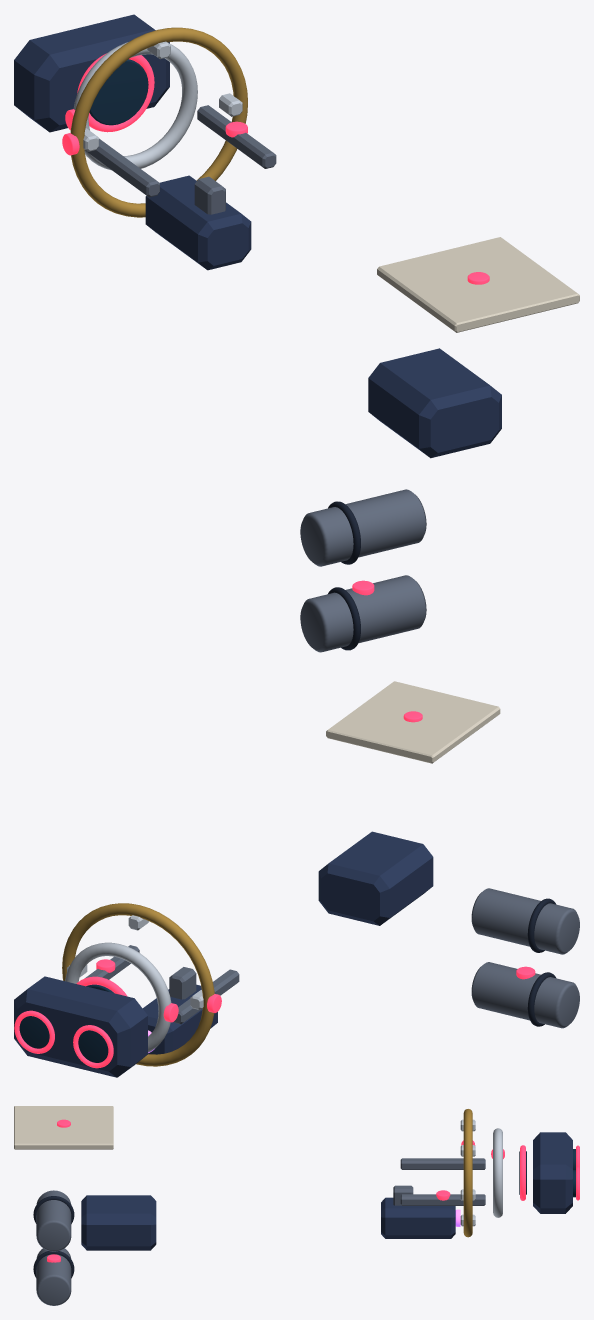
Rendered from tower_filament_peak_s10.glb.
3 renders of one model, top to bottom at view 1: azimuth 30°, elevation 25°; view 2: azimuth 150°, elevation 25°; view 3: azimuth 270°, elevation 25°, orthographic. The views are drawn at different scales.
Visible parts, largest first — view 1: filament_dielectric, filament_coupler, filament_prism, filament_cap0.12, filament_cap-0.12, filament_gimbal_ring, filament_shred_emitter, filament_aperture_ring, filament_lens_b, filament_lens_brace_l, filament_lens_brace_r, filament_lens_b_ring (+1 smaller); view 2: filament_dielectric, filament_coupler, filament_prism, filament_cap0.12, filament_cap-0.12, filament_gimbal_ring, filament_aperture_ring, filament_shred_emitter, filament_lens_brace_r, filament_prism_lens_r, filament_prism_lens_l, filament_shred_mount (+2 smaller); view 3: filament_dielectric, filament_coupler, filament_prism, filament_shred_emitter, filament_cap0.12, filament_cap-0.12, filament_gimbal_ring, filament_lens_brace_r, filament_aperture_ring, filament_lens_brace_l, filament_lens_b_ring, filament_shred_mount (+2 smaller).
Boxes of the visible parts, box(x1,y1,x2,y2) form: filament_dielectric: box(377, 237, 579, 332); filament_coupler: box(368, 348, 501, 458); filament_prism: box(14, 14, 169, 132); filament_cap0.12: box(300, 489, 426, 566); filament_cap-0.12: box(300, 575, 426, 652); filament_gimbal_ring: box(70, 27, 247, 217); filament_shred_emitter: box(145, 175, 251, 270); filament_aperture_ring: box(73, 42, 197, 170); filament_lens_b: box(89, 59, 148, 125); filament_lens_brace_l: box(197, 105, 276, 168); filament_lens_brace_r: box(85, 138, 159, 197); filament_lens_b_ring: box(77, 53, 154, 132); filament_dielectric: box(326, 681, 500, 763); filament_coupler: box(318, 831, 433, 925); filament_prism: box(14, 976, 147, 1077); filament_cap0.12: box(471, 888, 579, 954); filament_cap-0.12: box(471, 962, 579, 1028); filament_gimbal_ring: box(62, 903, 214, 1066); filament_aperture_ring: box(65, 942, 171, 1052); filament_shred_emitter: box(143, 984, 217, 1054); filament_lens_brace_r: box(174, 969, 239, 1024); filament_prism_lens_r: box(78, 1030, 110, 1062); filament_prism_lens_l: box(19, 1016, 52, 1048); filament_shred_mount: box(169, 967, 196, 999); filament_dielectric: box(14, 1106, 113, 1149); filament_coupler: box(81, 1195, 156, 1250); filament_prism: box(533, 1132, 572, 1213); filament_shred_emitter: box(381, 1197, 455, 1238); filament_cap0.12: box(36, 1190, 71, 1251); filament_cap-0.12: box(36, 1248, 71, 1305); filament_gimbal_ring: box(463, 1109, 472, 1237); filament_lens_brace_r: box(400, 1158, 485, 1169); filament_aperture_ring: box(493, 1128, 502, 1217); filament_lens_brace_l: box(400, 1194, 485, 1205); filament_lens_b_ring: box(520, 1145, 525, 1200); filament_shred_mount: box(393, 1185, 413, 1205).
Size of the model in its own units: 0.768 by 0.96 by 2.27.
